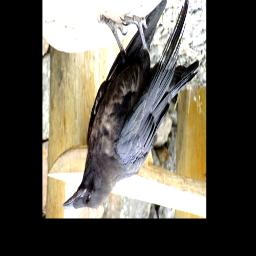Crow: (62, 0, 200, 212)
